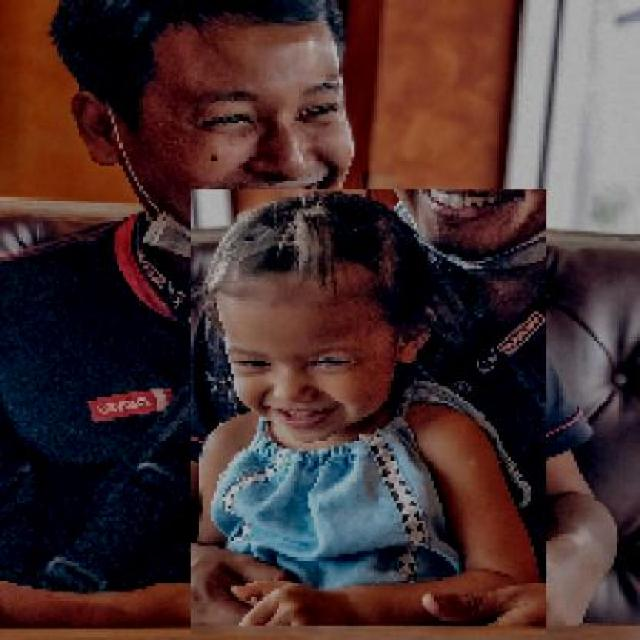child: (188, 189, 546, 637)
